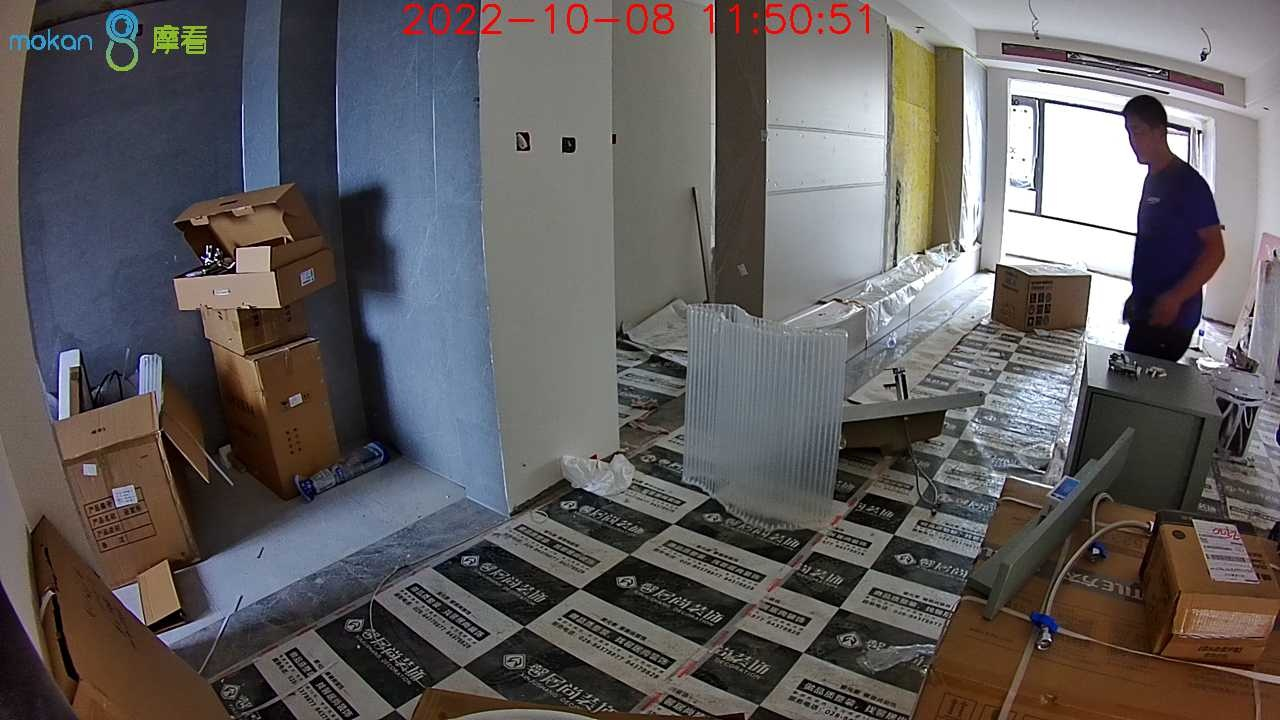people: (1122, 93, 1226, 358)
window: (1003, 76, 1220, 281)
